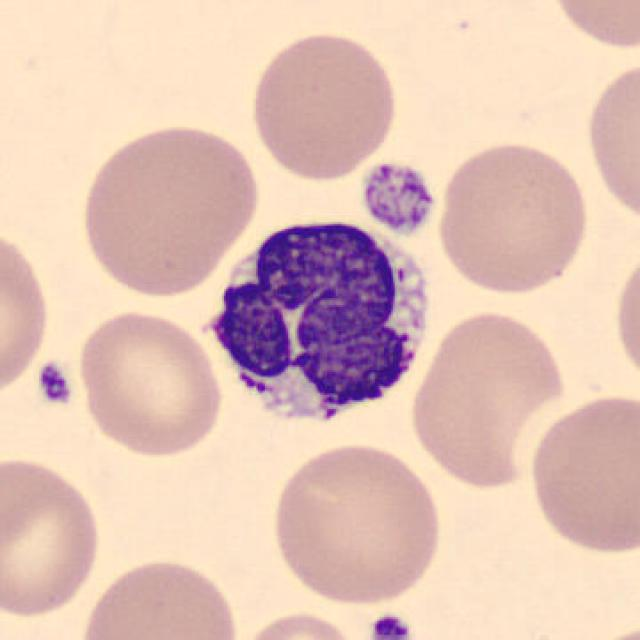Neutrophil: (195, 205, 442, 446)
Platelets: (356, 159, 439, 238), (34, 358, 76, 411), (366, 612, 414, 640)
RBC: (75, 118, 261, 300), (405, 303, 571, 494), (265, 439, 448, 608), (432, 136, 594, 298), (245, 27, 402, 184), (73, 305, 226, 460), (522, 386, 640, 559), (0, 453, 105, 624), (75, 552, 244, 640), (581, 55, 640, 231), (0, 218, 55, 404), (544, 0, 638, 53), (610, 241, 640, 395), (230, 608, 372, 640), (578, 619, 640, 640)
